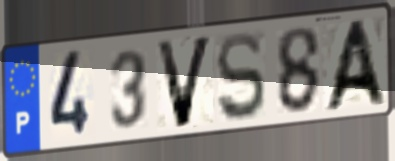3: (106, 47, 150, 133)
4: (47, 47, 97, 144)
8: (273, 25, 323, 116)
A: (320, 16, 390, 114)
S: (214, 29, 269, 125)
V: (153, 33, 216, 132)
